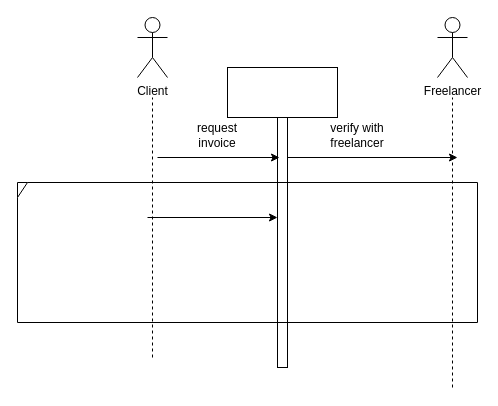
The diagram is 498 pixels wide and 406 high, and some of its shapes have lost their labels. The shapes that lost their labels are listed below. From the top down, each one's centre as x and y in pixels, then its label:
(282,92): Database
(247,252): process information
